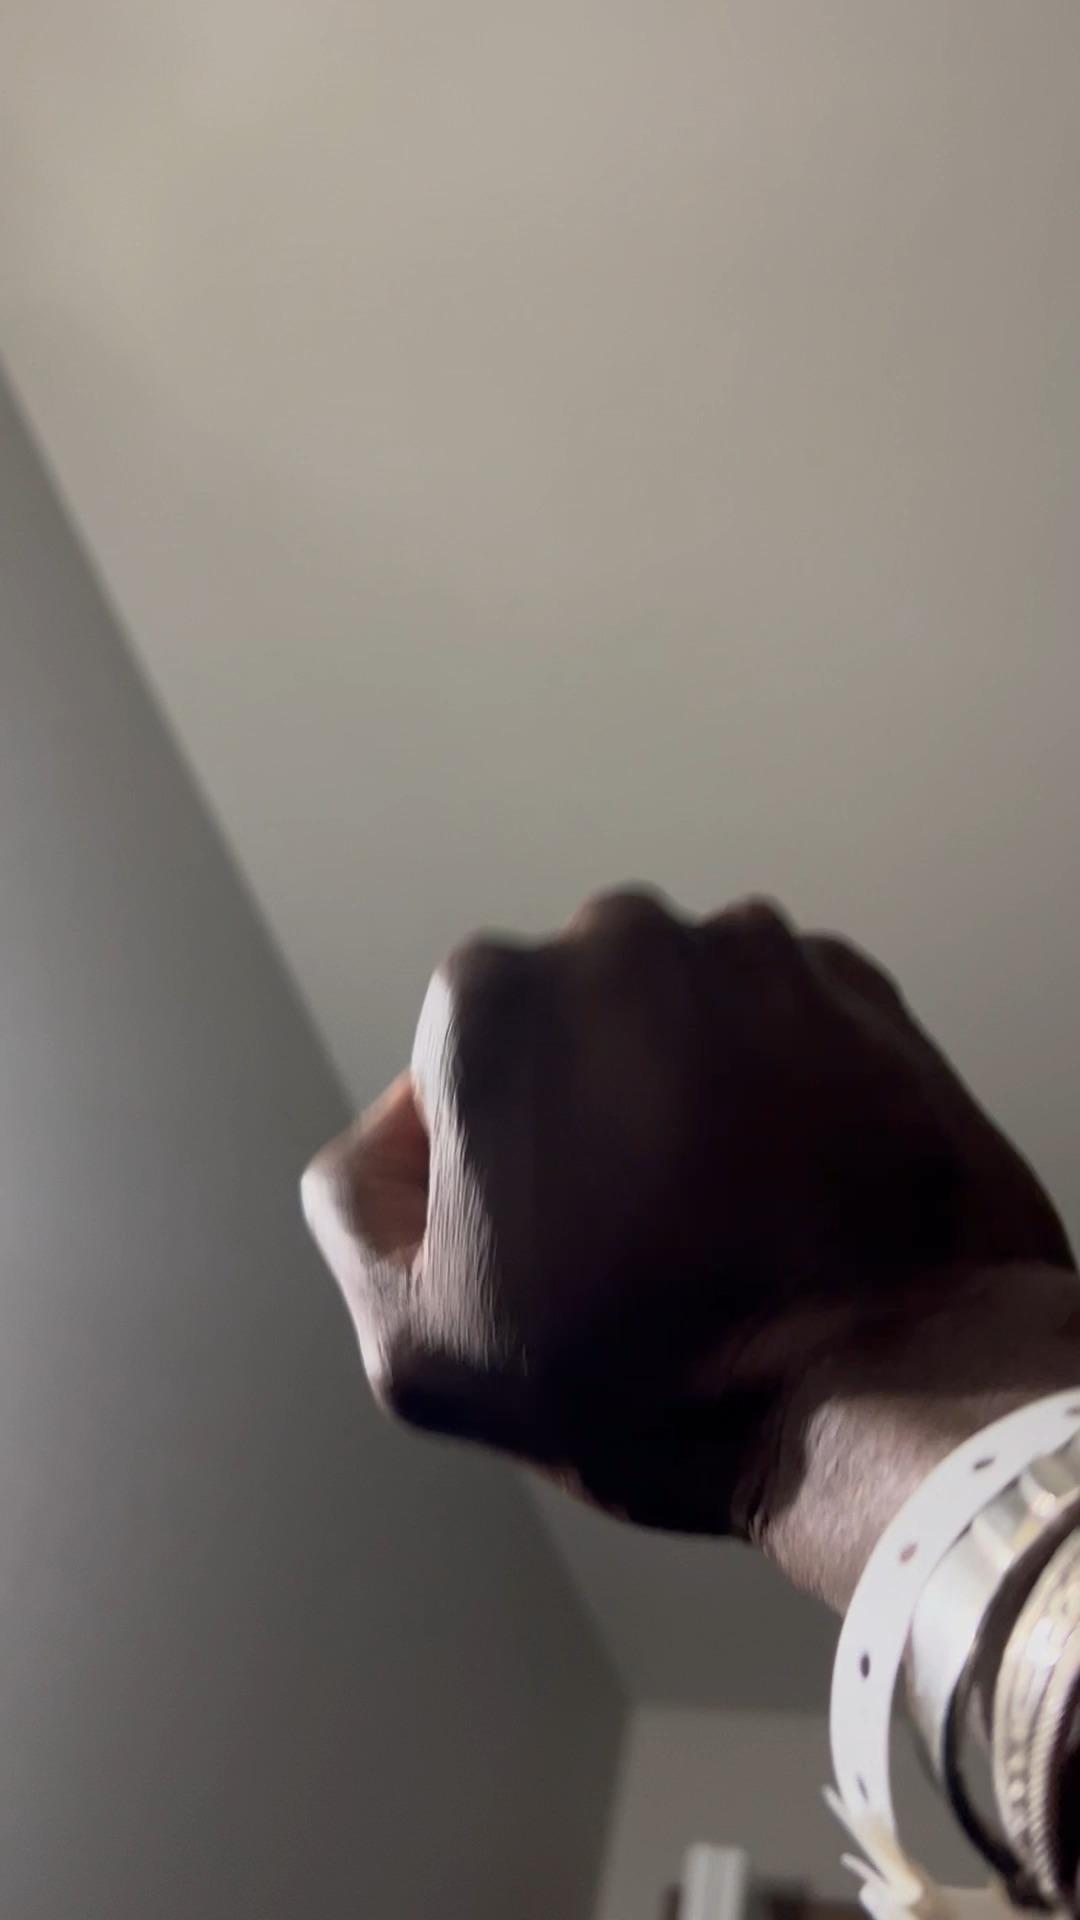Rock: (297, 877, 1067, 1549)
